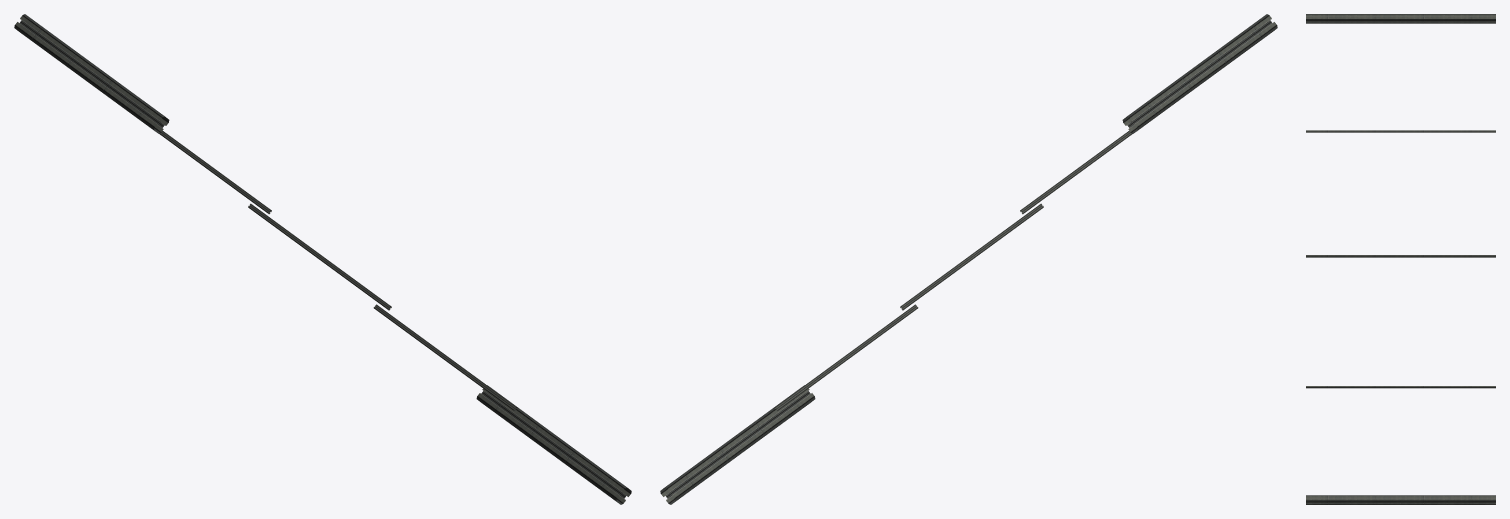
The model's file is Dock_WindowFrame_MID.FBX.
3 views of the same model, side by side, from view 1: azimuth 30°, elevation 25°; view 2: azimuth 150°, elevation 25°; view 3: azimuth 270°, elevation 25° (orthographic). The views are drawn at different scales.
Parts seen in each view (by area): view 1: Dock_WindowFrame_MID; view 2: Dock_WindowFrame_MID; view 3: Dock_WindowFrame_MID.
Boxes of the visible parts, left/top/right/bottom form: Dock_WindowFrame_MID: left=14, top=14, right=631, bottom=504; Dock_WindowFrame_MID: left=660, top=14, right=1277, bottom=504; Dock_WindowFrame_MID: left=1306, top=14, right=1495, bottom=504.
Size of the model in its own units: 11.83 by 11.83 by 6.
